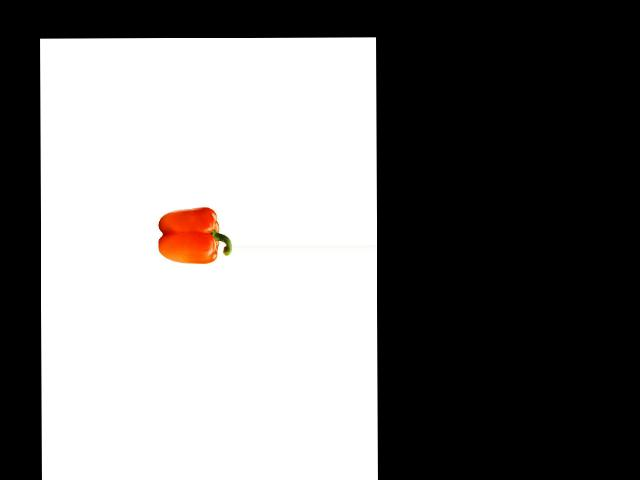bell_pepper: (157, 201, 232, 270)
